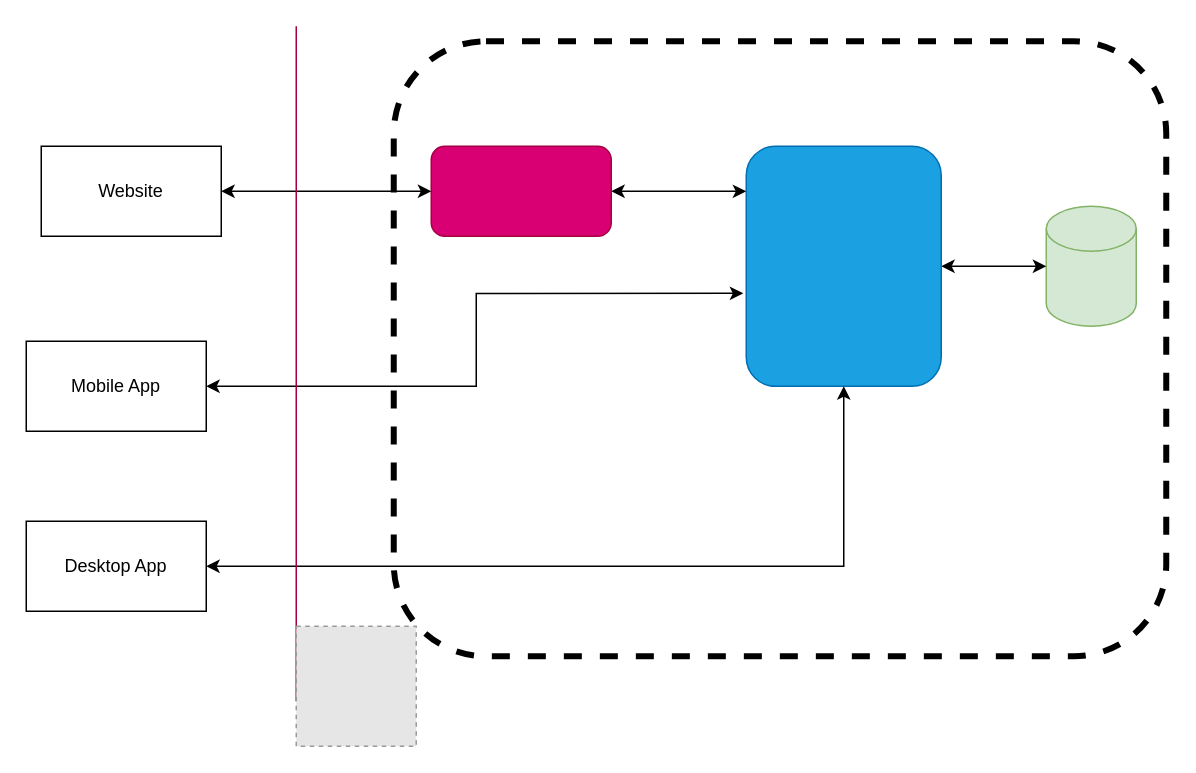
This 1196x773 diagram has some shape labels left out. Grey dashed boxes stand in for pictures. The centre of each missing label's shape, as x and y in pixels:
"Service" belongs at pixel 843 265.
"Web App" belongs at pixel 520 190.
